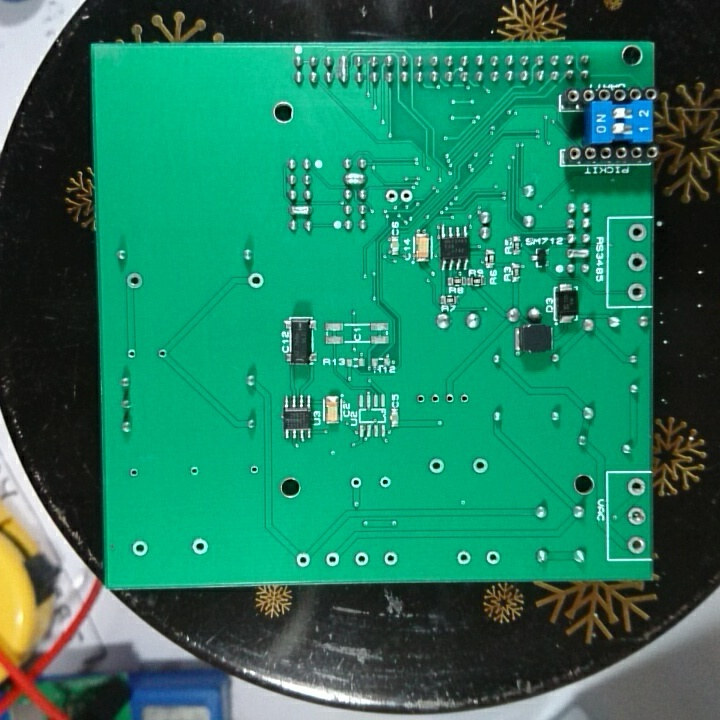F: (624, 250, 649, 275), (187, 535, 211, 559), (625, 221, 648, 246), (625, 475, 647, 500), (624, 280, 646, 303), (624, 506, 647, 528), (624, 533, 647, 555), (483, 548, 504, 571), (130, 537, 150, 560), (246, 269, 266, 292), (427, 455, 447, 478), (470, 455, 490, 477), (381, 550, 402, 570), (454, 546, 473, 568), (323, 549, 343, 569), (347, 472, 367, 492), (124, 272, 144, 291), (293, 550, 313, 568), (457, 389, 473, 411), (351, 551, 370, 569), (124, 346, 144, 363), (400, 187, 416, 208), (378, 472, 395, 491), (381, 189, 399, 206), (248, 461, 264, 480), (441, 389, 456, 409), (127, 465, 144, 482), (187, 463, 203, 480), (413, 390, 427, 407), (156, 346, 169, 364), (427, 391, 442, 406)
P: (564, 245, 594, 264), (336, 52, 351, 87), (341, 171, 370, 187), (287, 203, 316, 218)
